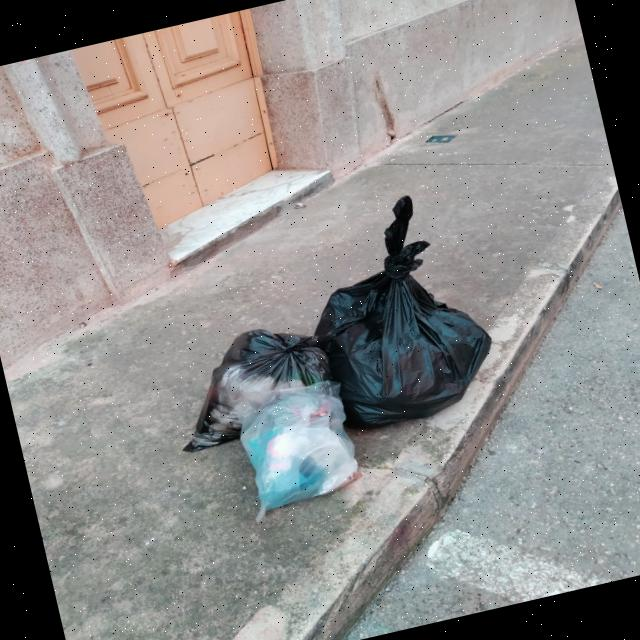Mixed Waste: (285, 185, 504, 438), (162, 315, 340, 452)
Other Waste: (226, 365, 368, 531)
